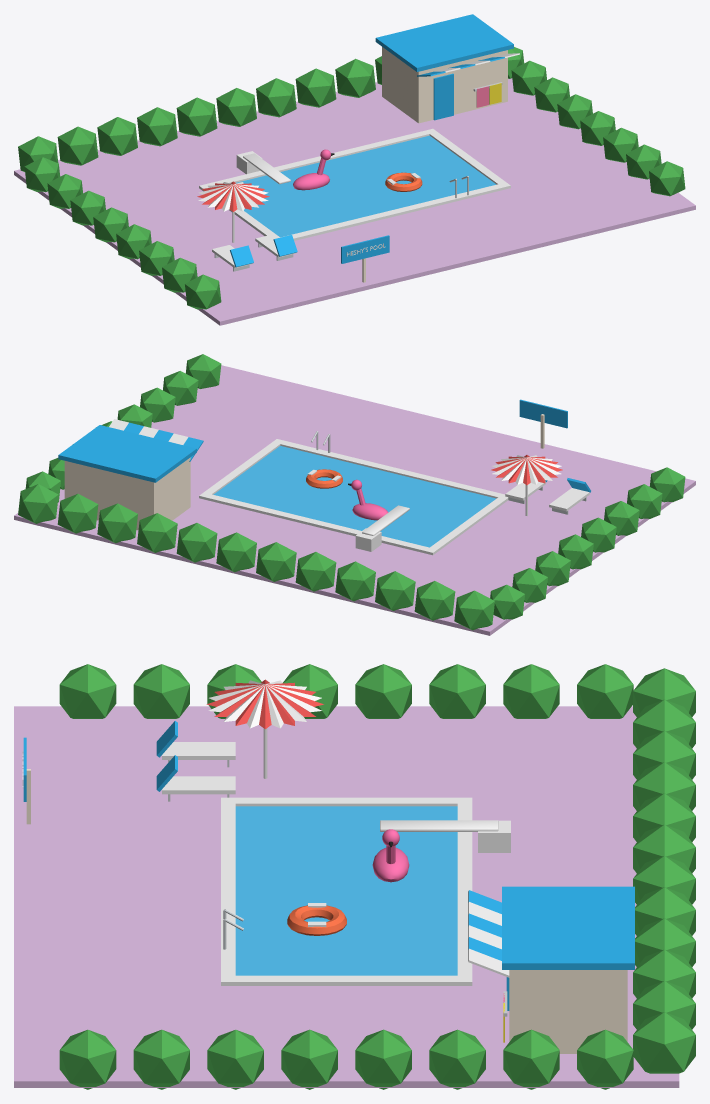
Rendered from journey_pool.glb.
3 views of the same model, one above another, from view 1: azimuth 30°, elevation 25°; view 2: azimuth 150°, elevation 25°; view 3: azimuth 270°, elevation 25° (orthographic). The views are drawn at different scales.
Parts seen in each view (by area): view 1: Pool_body, PoolWater, Flamingo, Tube; view 2: Pool_body, PoolWater, Flamingo, Tube; view 3: Pool_body, PoolWater, Tube, Flamingo.
Boxes of the visible parts, x1,y1,x2,y2 form: Pool_body: (14,14,695,325); PoolWater: (236,135,495,237); Flamingo: (293,149,334,190); Tube: (385,172,422,191); Pool_body: (14,354,695,635); PoolWater: (213,446,496,547); Flamingo: (348,479,388,520); Tube: (306,469,342,488); Pool_body: (14,664,695,1089); PoolWater: (235,806,457,975); Tube: (287,903,346,935); Flamingo: (372,829,409,882).
Bounding box in the file's own units: 25.01 × 3.2 × 18.45.
